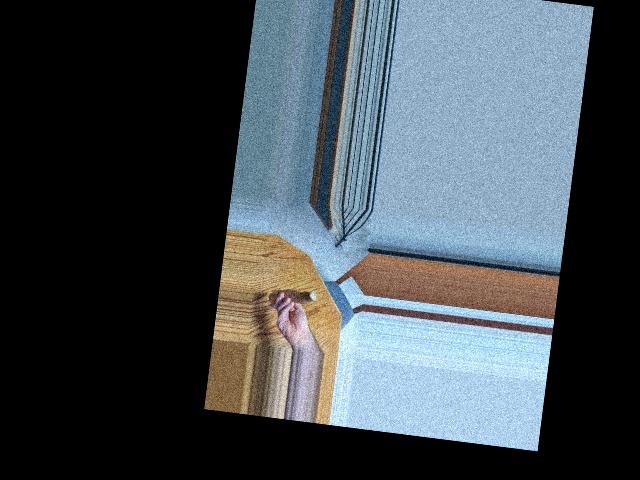sweet_potato: (268, 284, 318, 311)
